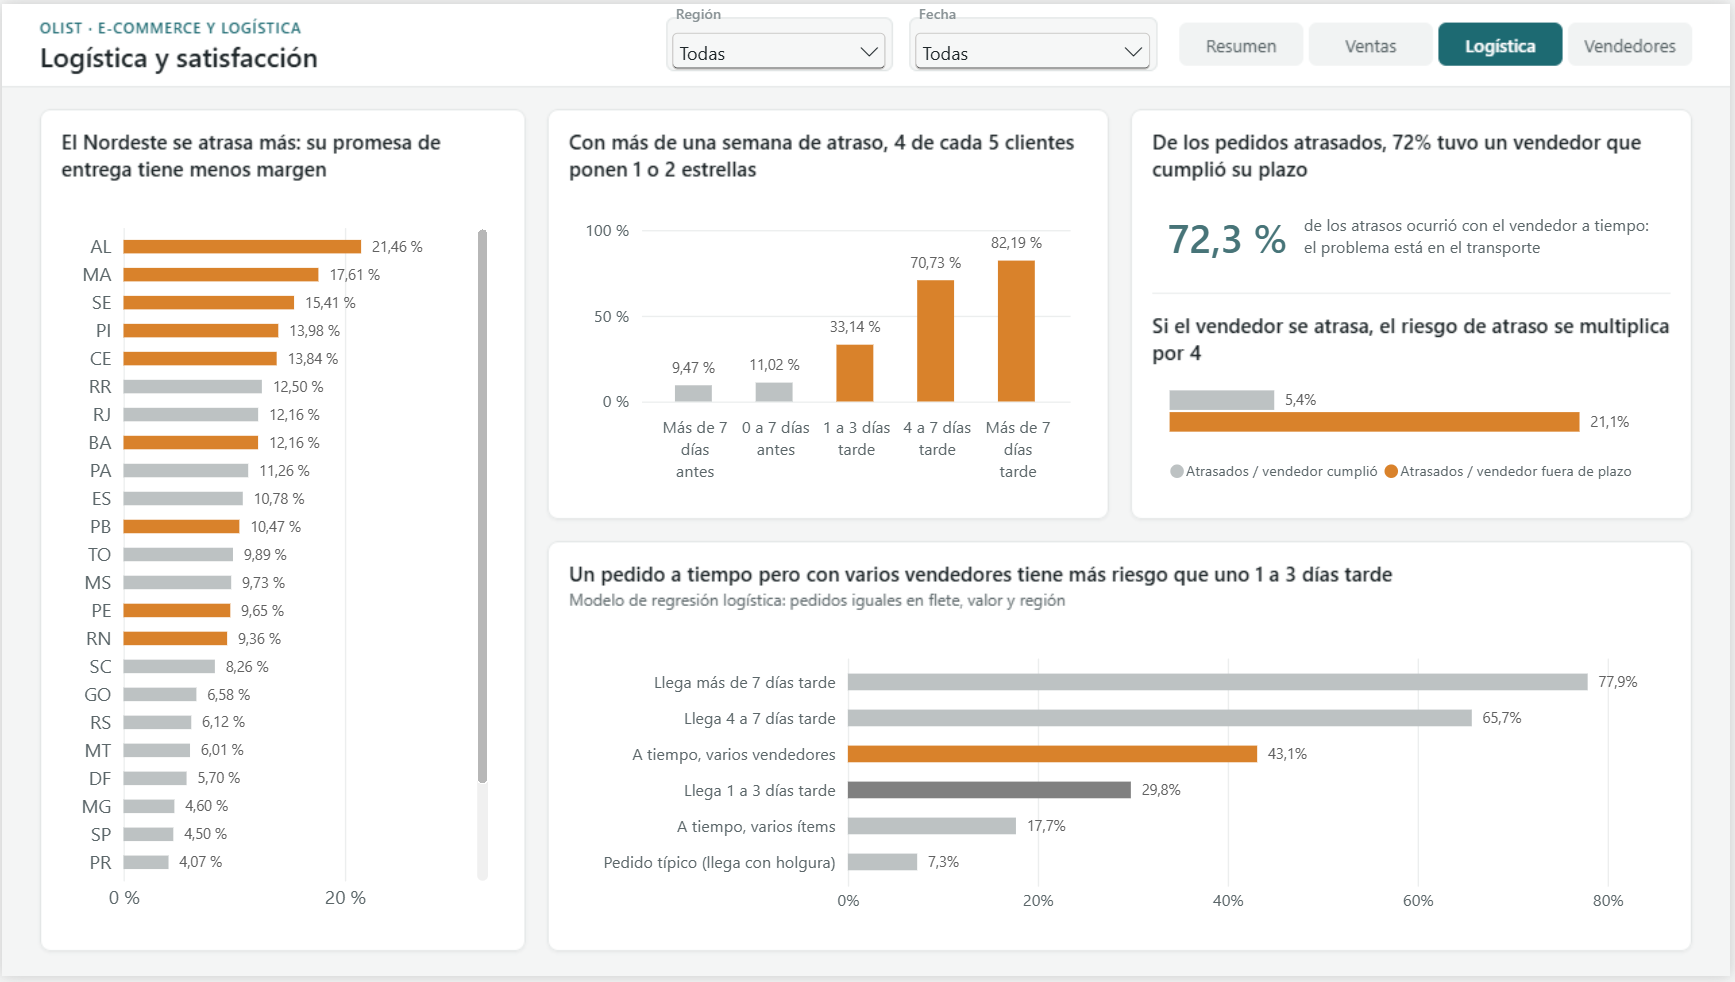

The page's visual inventory and layout, read from the dashboard file:
{"tool":"powerbi","page":{"name":"Logística","canvas":[1280,720],"ordinal":2},"visuals":[{"type":"clusteredColumnChart","title":"Con más de una semana de atraso, 4 de cada 5 clientes ponen 1 o 2 estrellas","fields":{"Category":["fact_pedidos.tramo_atraso"],"Y":["_Medidas.% Malas reseñas"]},"box":[416,144,392,228],"z":0},{"type":"clusteredBarChart","title":"El Nordeste se atrasa más: su promesa de entrega tiene menos margen","fields":{"Category":["dim_estado.estado"],"Y":["_Medidas.% Atrasados"]},"box":[40,144,336,548],"z":1000},{"type":"cardVisual","title":"De los pedidos atrasados, 72% tuvo un vendedor que cumplió su plazo","fields":{"Data":["_Medidas.% Atrasos con vendedor a tiempo"]},"box":[848,142,392,60],"z":2000},{"type":"clusteredBarChart","title":"Si el vendedor se atrasa, el riesgo de atraso se multiplica por 4","fields":{"Y":["_Medidas.Atrasados - vendedor cumplió","_Medidas.Atrasados - vendedor fuera de plazo"]},"box":[848.5,248.8,391.2,123.9],"z":3000},{"type":"clusteredBarChart","title":"Un pedido a tiempo pero con varios vendedores tiene más riesgo que uno 1 a 3 días tarde","fields":{"Category":["escenarios.escenario"],"Y":["_Medidas.Prob. mala reseña"]},"box":[416,462.9,824,230],"z":4000},{"type":"slicer","title":"Región","fields":{"Values":["dim_estado.region"]},"box":[491.4,0,168.6,51.4],"z":5000},{"type":"slicer","title":"Fecha","fields":{"Values":["dim_fecha.Date"]},"box":[671.4,0,184.3,51.4],"z":6000},{"type":"actionButton","box":[871.4,12.9,92.9,32.9],"z":7000},{"type":"actionButton","box":[967.1,12.9,92.9,32.9],"z":8000},{"type":"actionButton","box":[1064.3,12.9,92.9,32.9],"z":9000},{"type":"actionButton","box":[1158.6,12.9,92.9,32.9],"z":10000},{"type":"textbox","box":[964.3,155.7,257.1,45.7],"z":11000}]}

Visuals, with their boxes in screenshot pixels (x1, y1, x2, y2), scaled from the page's 1280x720 canvas onto the 1735x982 screenshot:
"Con más de una semana de atraso, 4 de cada 5 clientes ponen 1 o 2 estrellas" clusteredColumnChart: box(564, 196, 1095, 507)
"El Nordeste se atrasa más: su promesa de entrega tiene menos margen" clusteredBarChart: box(54, 196, 510, 944)
"De los pedidos atrasados, 72% tuvo un vendedor que cumplió su plazo" cardVisual: box(1149, 194, 1681, 276)
"Si el vendedor se atrasa, el riesgo de atraso se multiplica por 4" clusteredBarChart: box(1150, 339, 1680, 508)
"Un pedido a tiempo pero con varios vendedores tiene más riesgo que uno 1 a 3 días tarde" clusteredBarChart: box(564, 631, 1681, 945)
"Región" slicer: box(666, 0, 895, 70)
"Fecha" slicer: box(910, 0, 1160, 70)
actionButton: box(1181, 18, 1307, 62)
actionButton: box(1311, 18, 1437, 62)
actionButton: box(1443, 18, 1569, 62)
actionButton: box(1570, 18, 1696, 62)
textbox: box(1307, 212, 1656, 275)
